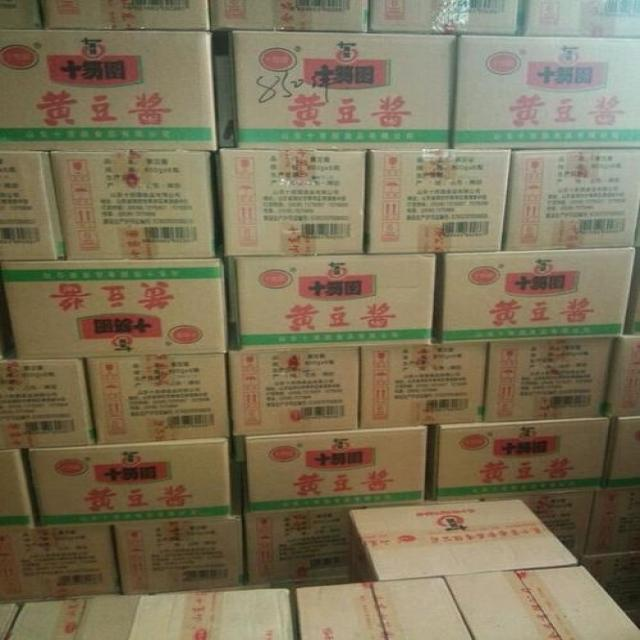box: (229, 31, 456, 151), (0, 30, 216, 152), (1, 259, 227, 360), (452, 33, 640, 149), (236, 253, 435, 351), (351, 498, 581, 581), (440, 248, 636, 344), (27, 438, 232, 528), (49, 152, 218, 261), (218, 148, 367, 256), (246, 428, 428, 513), (366, 151, 512, 255), (434, 417, 611, 501), (444, 565, 640, 640), (502, 149, 640, 251), (114, 491, 244, 595), (86, 354, 229, 445), (229, 347, 361, 436), (293, 576, 476, 640), (484, 336, 614, 425), (360, 342, 486, 430), (0, 526, 120, 602), (0, 358, 93, 450), (129, 588, 293, 640), (246, 507, 349, 584), (0, 152, 65, 260), (4, 596, 137, 640)
